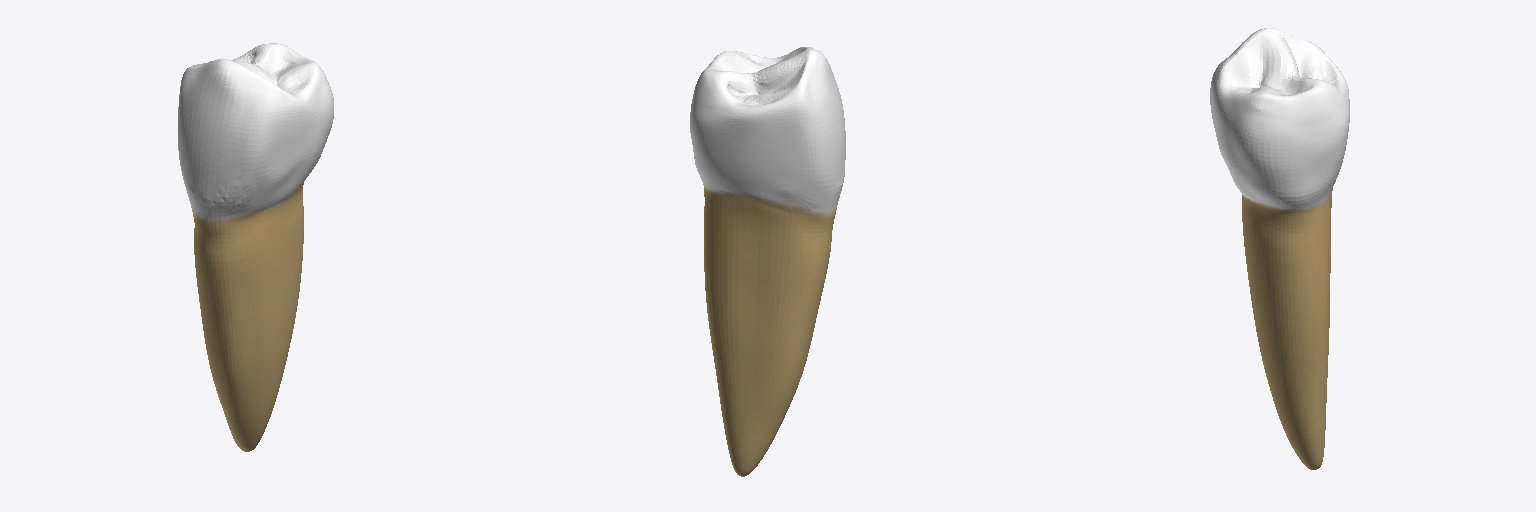
3 renders of one model, left to right at view 1: azimuth 30°, elevation 25°; view 2: azimuth 150°, elevation 25°; view 3: azimuth 270°, elevation 25°, orthographic.
Visible parts, largest first — view 1: outer; view 2: outer; view 3: outer.
Boxes of the visible parts, box(x1,y1,x2,y2) form: outer: box(178, 43, 333, 451); outer: box(690, 47, 845, 476); outer: box(1210, 28, 1349, 469).
Size of the model in its own units: 3.31 by 9.66 by 2.92.
2 materials, 1 textured.